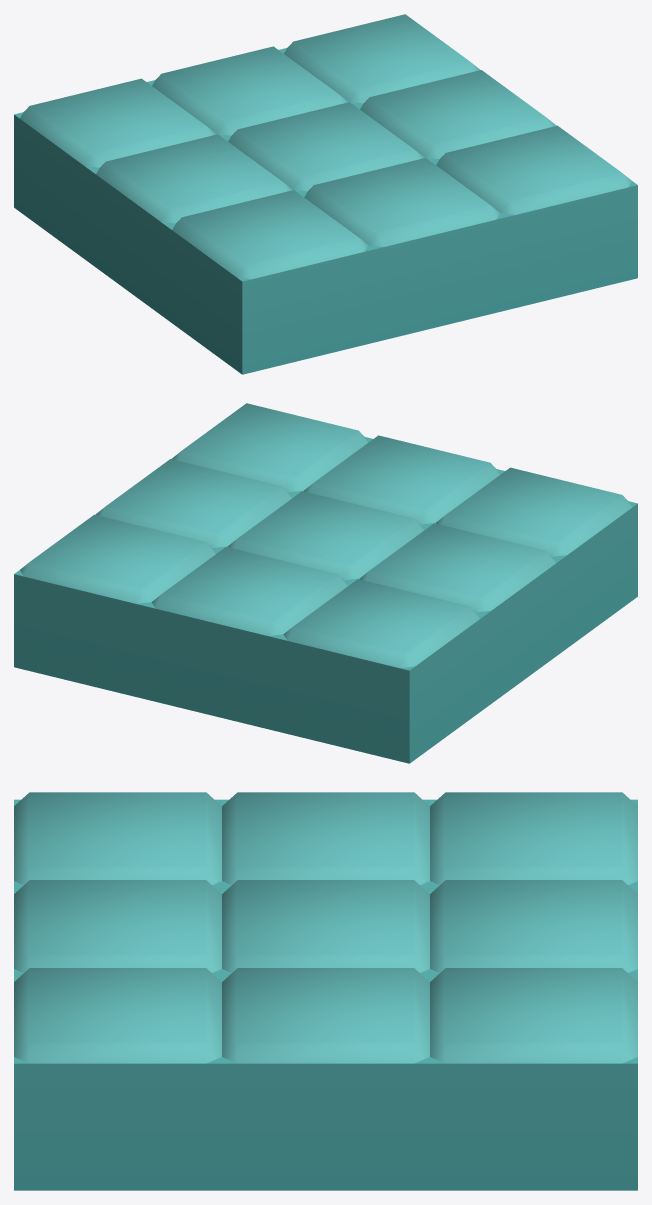
Rendered from floor_tiled.fbx.
The picture shows the model from 3 angles, top to bottom: view 1: azimuth 30°, elevation 25°; view 2: azimuth 150°, elevation 25°; view 3: azimuth 270°, elevation 25°; orthographic projection. The views are drawn at different scales.
Visible parts, largest first — view 1: floor_tiled; view 2: floor_tiled; view 3: floor_tiled.
Boxes of the visible parts, x1,y1,x2,y2 form: floor_tiled: (14,14,637,374); floor_tiled: (14,403,637,763); floor_tiled: (14,792,637,1190).
Size of the model in its own units: 2 by 0.5 by 2.
